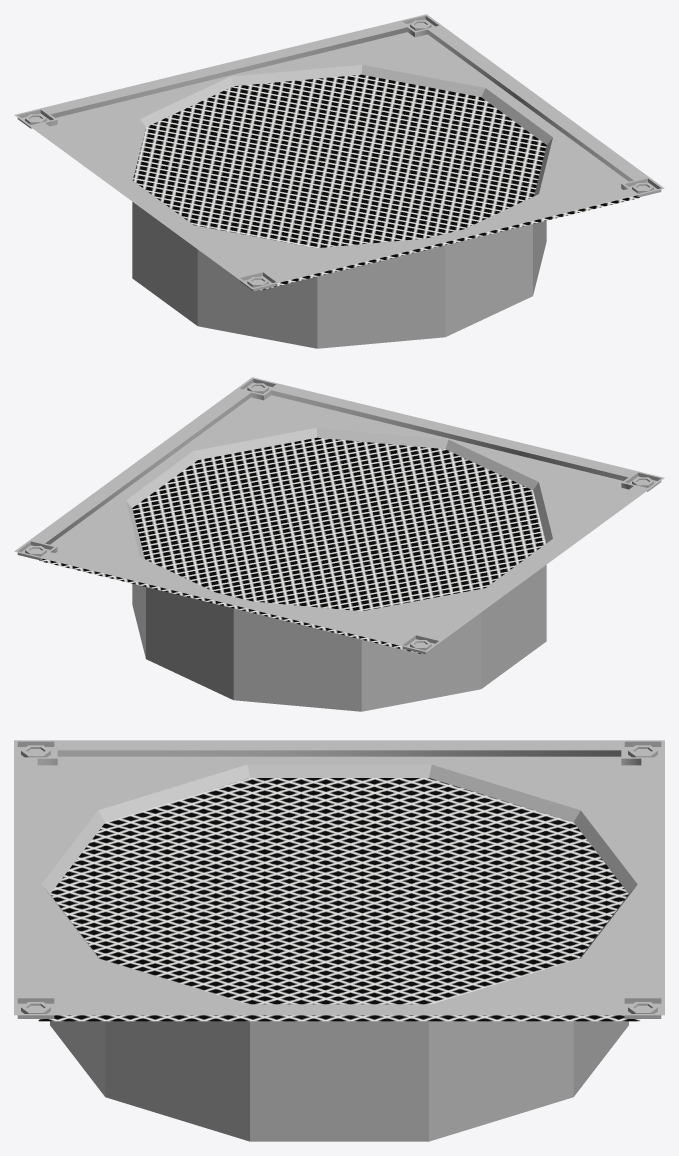
File: Building_Deco_06.FBX
The picture shows the model from 3 angles, top to bottom: view 1: azimuth 30°, elevation 25°; view 2: azimuth 150°, elevation 25°; view 3: azimuth 270°, elevation 25°; orthographic projection. The views are drawn at different scales.
Parts seen in each view (by area): view 1: Building_Deco_06_LOD0; view 2: Building_Deco_06_LOD0; view 3: Building_Deco_06_LOD0.
Boxes of the visible parts, x1=… form: Building_Deco_06_LOD0: x1=14, y1=14, x2=664, y2=348; Building_Deco_06_LOD0: x1=14, y1=377, x2=664, y2=711; Building_Deco_06_LOD0: x1=14, y1=740, x2=664, y2=1141.
Size of what is drawn, in the model's own units: 180 by 45 by 180.
